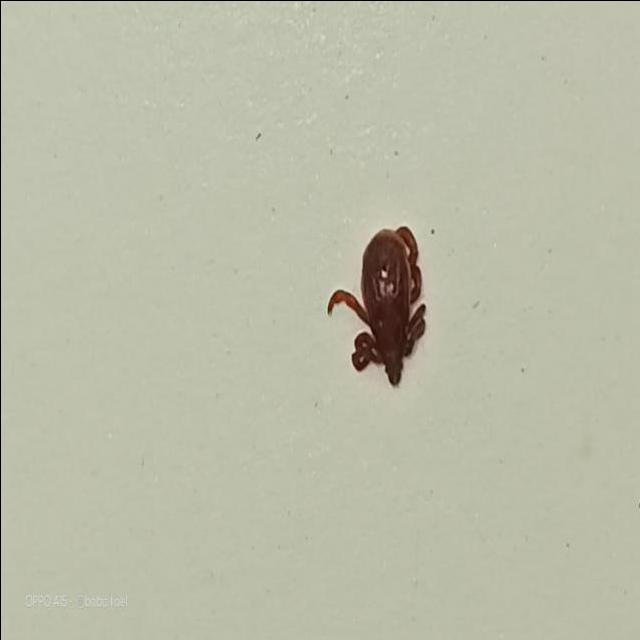Rhipicephalus Sanguineus-M: (327, 226, 427, 388)
